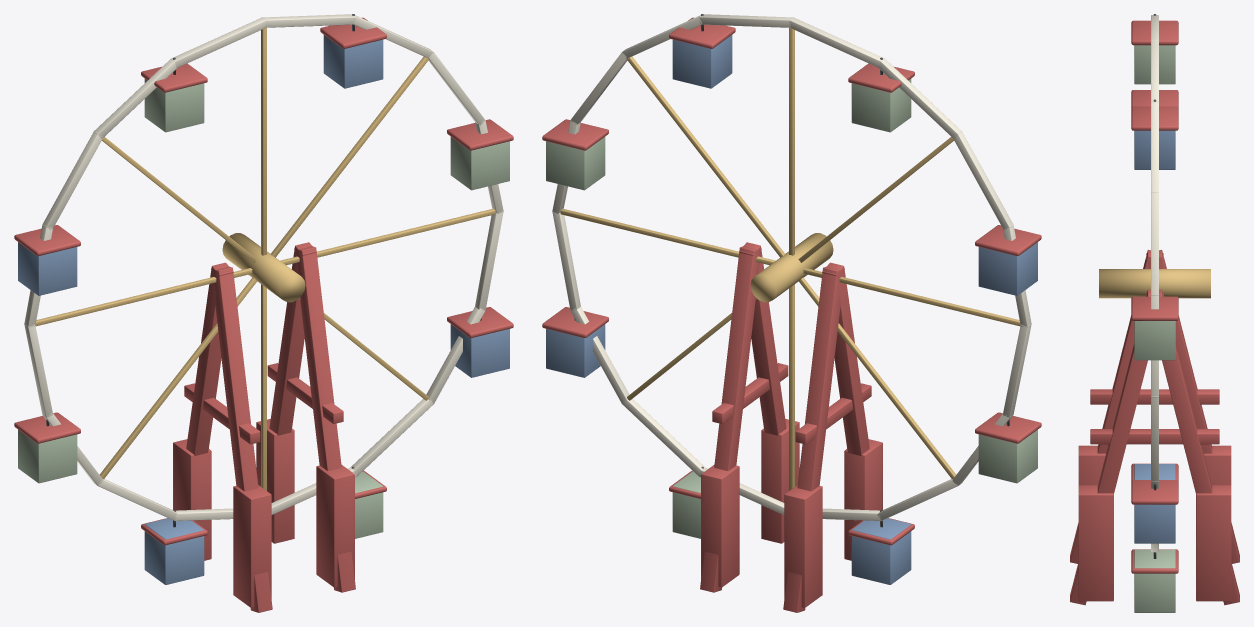
File: ruota.glb
3 renders of one model, left to right at view 1: azimuth 30°, elevation 25°; view 2: azimuth 150°, elevation 25°; view 3: azimuth 270°, elevation 25°, orthographic. The views are drawn at different scales.
Parts seen in each view (by area): view 1: zampa_-1_-1, zampa_1_-1, COL_zampa_-1_1, COL_zampa_1_1, zampa_-1_1, zampa_1_1, COL_zampa_1_-1, COL_zampa_-1_-1, mozzo, cab_1, cab_5, cab_4 (+34 smaller); view 2: zampa_1_1, zampa_-1_1, COL_zampa_-1_-1, COL_zampa_1_-1, zampa_-1_-1, zampa_1_-1, COL_zampa_1_1, COL_zampa_-1_1, mozzo, cab_1, cab_5, cab_4 (+33 smaller); view 3: COL_zampa_1_-1, COL_zampa_1_1, mozzo, zampa_1_-1, zampa_1_1, cab_7, cab_0, cab_6, zampa_-1_-1, zampa_-1_1, traversa_1, cab_1 (+17 smaller).
Part boxes in pixels (x1,y1,x2,y2): zampa_-1_-1: (211,266,272,612); zampa_1_-1: (294,246,355,592); COL_zampa_-1_1: (233,485,271,607); COL_zampa_1_1: (316,464,354,587); zampa_-1_1: (186,262,233,455); zampa_1_1: (269,242,316,435); COL_zampa_1_-1: (256,419,294,543); COL_zampa_-1_-1: (173,439,211,560); mozzo: (222,233,305,302); cab_1: (323,35,383,88); cab_5: (144,531,204,584); cab_4: (18,429,77,483); zampa_1_1: (700,246,761,592); zampa_-1_1: (783,266,844,612); COL_zampa_-1_-1: (784,485,822,607); COL_zampa_1_-1: (701,464,739,587); zampa_-1_-1: (822,262,869,455); zampa_1_-1: (739,242,786,435); COL_zampa_1_1: (761,419,799,543); COL_zampa_-1_1: (844,439,882,560); mozzo: (750,233,833,302); cab_1: (672,35,732,88); cab_5: (851,531,911,584); cab_4: (978,429,1037,483); COL_zampa_1_-1: (1196,485,1231,601); COL_zampa_1_1: (1078,485,1113,601); mozzo: (1099,269,1210,298); zampa_1_-1: (1070,289,1163,605); zampa_1_1: (1146,289,1239,605); cab_7: (1134,504,1175,543); cab_0: (1134,321,1175,360); cab_6: (1134,573,1175,612); zampa_-1_-1: (1070,249,1163,563); zampa_-1_1: (1146,249,1239,563); traversa_1: (1090,429,1219,444); cab_1: (1134,130,1175,169).
Bounding box in the file's own units: 18.33 × 20.35 × 5.78.
